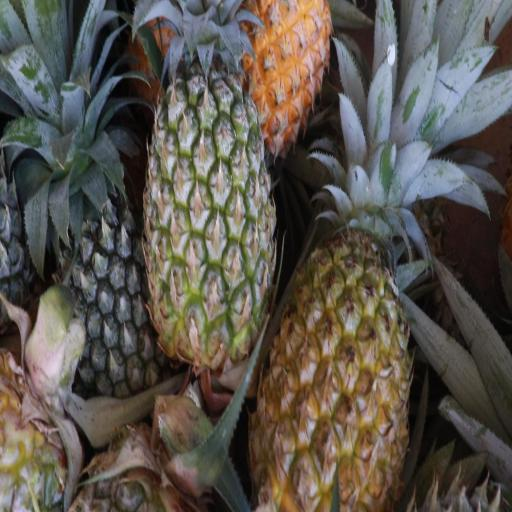------------------------------: (142, 54, 275, 371)
Pineapple - v8 v1: (260, 180, 407, 512), (227, 2, 332, 152)
